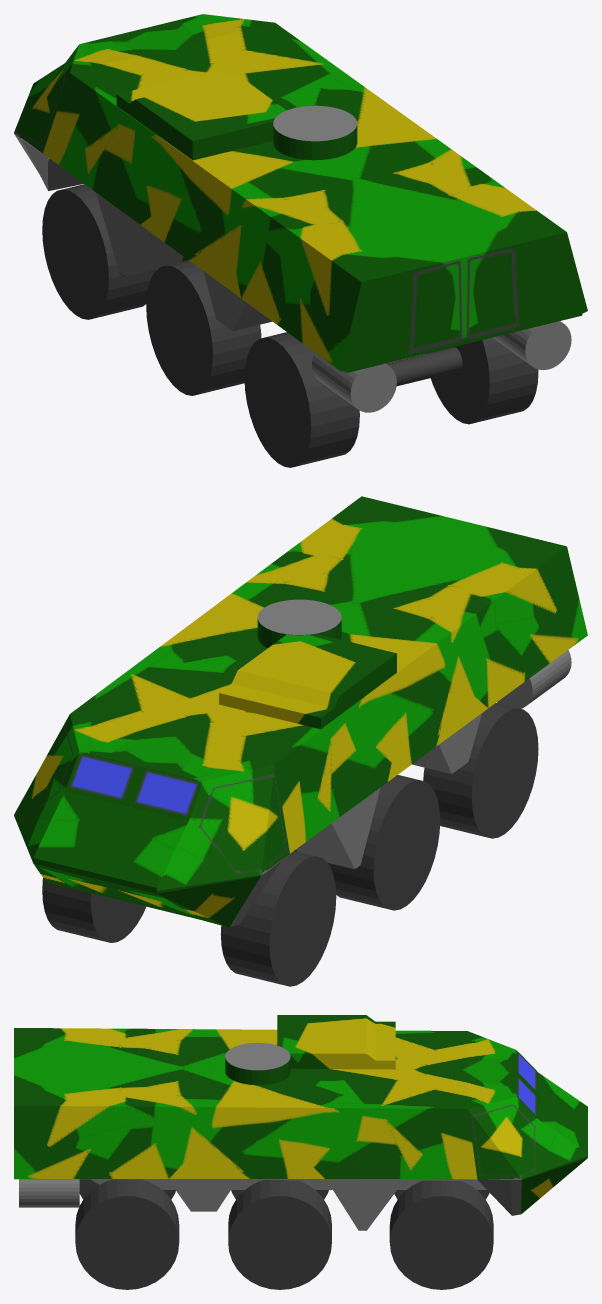
Rendered from sisu xa-185.fbx.
3 views of the same model, one above another, from view 1: azimuth 30°, elevation 25°; view 2: azimuth 150°, elevation 25°; view 3: azimuth 270°, elevation 25° (orthographic). The views are drawn at different scales.
Visible parts, largest first — view 1: Cube, Cube.001; view 2: Cube, Cube.001; view 3: Cube, Cube.001.
Part boxes in pixels (x1=…): Cube: x1=14, y1=14, x2=587, y2=467; Cube.001: x1=116, y1=69, x2=357, y2=160; Cube: x1=14, y1=496, x2=587, y2=986; Cube.001: x1=219, y1=599, x2=396, y2=729; Cube: x1=14, y1=1028, x2=587, y2=1289; Cube.001: x1=225, y1=1015, x2=395, y2=1085.
Bounding box in the file's own units: 290 × 279 × 750.
2 materials, 2 textured.
